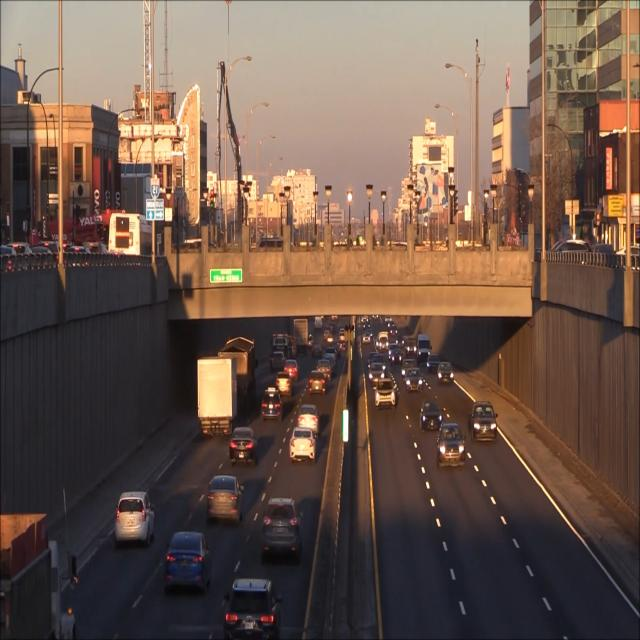Car: (220, 578, 284, 640), (258, 495, 308, 564), (193, 355, 236, 435), (161, 529, 211, 593), (112, 492, 159, 551), (203, 476, 244, 531), (436, 422, 466, 471), (228, 425, 258, 465), (471, 402, 499, 441), (288, 429, 316, 462), (420, 401, 443, 433), (374, 380, 396, 409), (296, 404, 320, 430), (260, 392, 280, 422), (405, 368, 423, 393), (438, 360, 453, 384)
